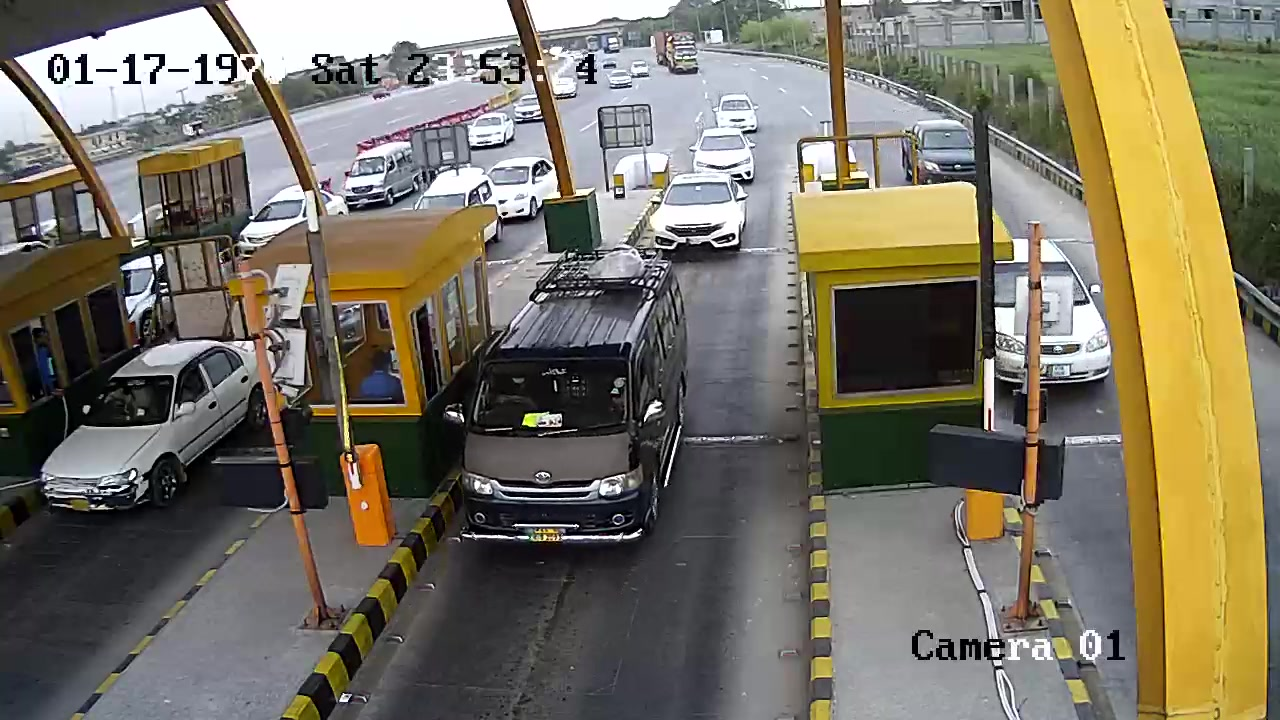F2: (457, 241, 693, 554)
